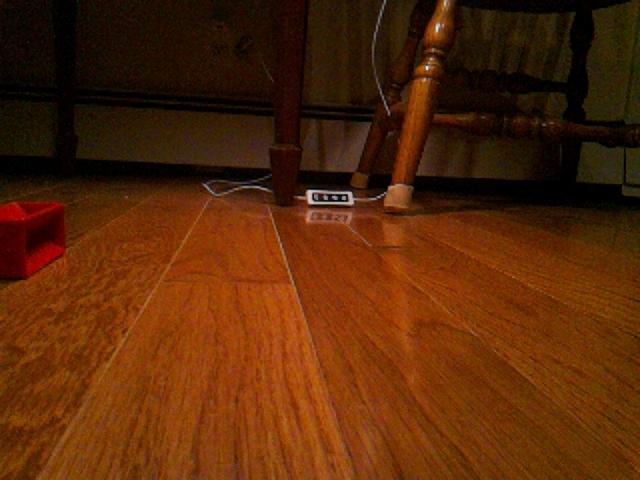red: (1, 199, 67, 281)
